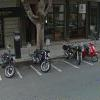Motorcycle: (60, 41, 100, 66)
